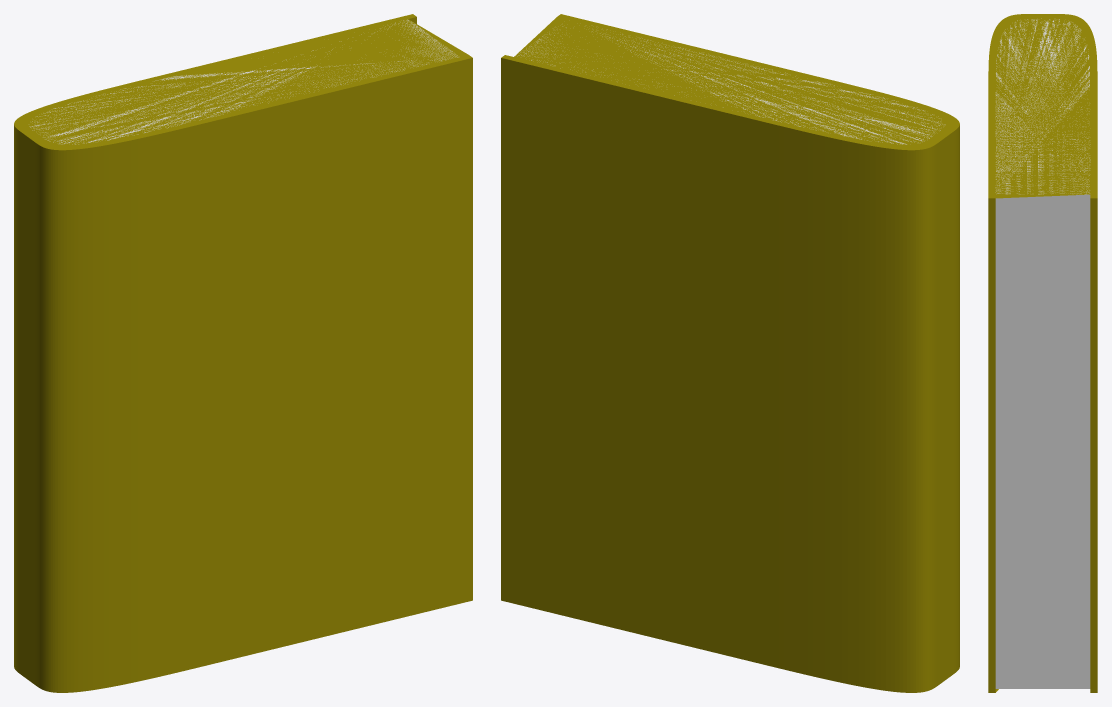
The model's file is book_2.fbx.
The picture shows the model from 3 angles, left to right: view 1: azimuth 30°, elevation 25°; view 2: azimuth 150°, elevation 25°; view 3: azimuth 270°, elevation 25°; orthographic projection. The views are drawn at different scales.
Parts seen in each view (by area): view 1: Case, Page; view 2: Case, Page; view 3: Page, Case.
Boxes of the visible parts, x1=… form: Case: x1=14, y1=14, x2=472, y2=692; Page: x1=29, y1=19, x2=458, y2=144; Case: x1=501, y1=14, x2=959, y2=692; Page: x1=517, y1=26, x2=945, y2=144; Page: x1=995, y1=18, x2=1090, y2=688; Case: x1=988, y1=14, x2=1097, y2=692.
Bounding box in the file's own units: 80 × 100 × 20.
